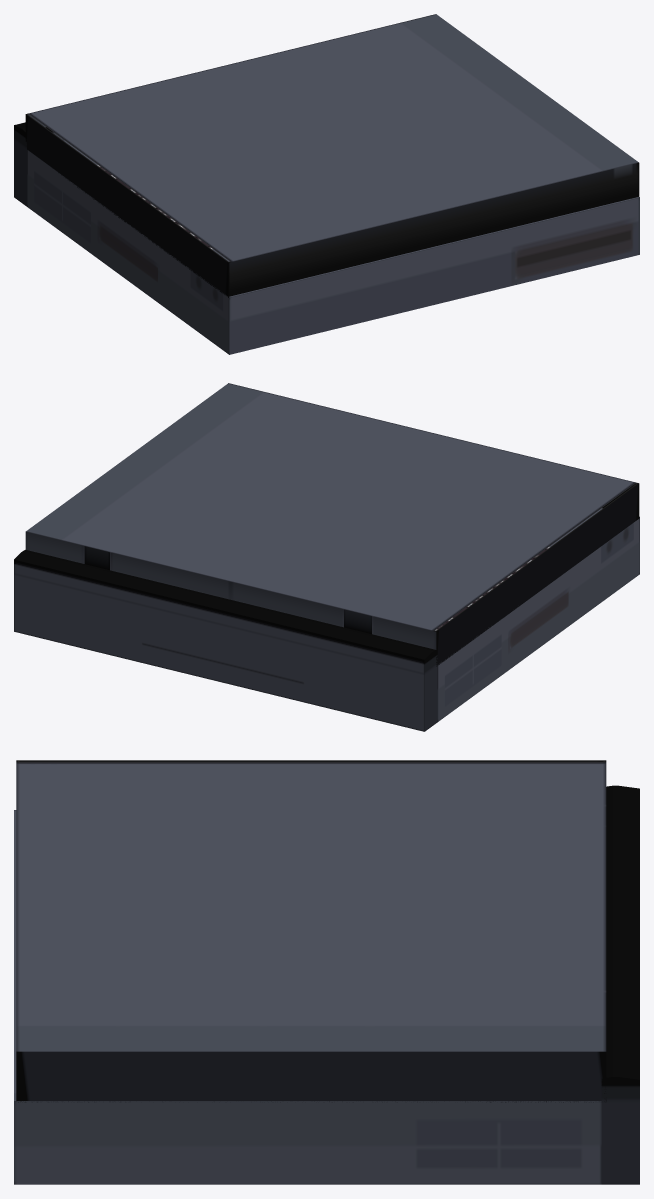
Rendered from 90LaptopClosed.fbx.
The picture shows the model from 3 angles, top to bottom: view 1: azimuth 30°, elevation 25°; view 2: azimuth 150°, elevation 25°; view 3: azimuth 270°, elevation 25°; orthographic projection. The views are drawn at different scales.
Parts seen in each view (by area): view 1: BOT.001; view 2: BOT.001; view 3: BOT.001.
Part boxes in pixels (bbox=[...]): BOT.001: bbox=[14, 14, 639, 354]; BOT.001: bbox=[14, 383, 639, 731]; BOT.001: bbox=[14, 760, 639, 1184].
Size of the model in its own units: 3.76 by 0.8013 by 3.42.
